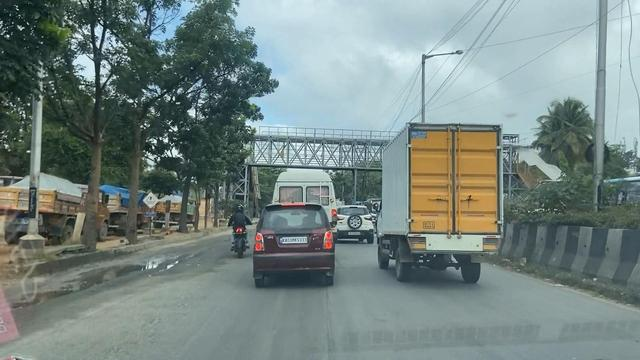HMV: (377, 127, 497, 285)
LMV: (252, 203, 333, 286), (229, 205, 248, 257)
RoadDamages: (43, 251, 204, 309), (319, 288, 339, 360)
UnsurfacedRoad: (100, 309, 187, 347)
